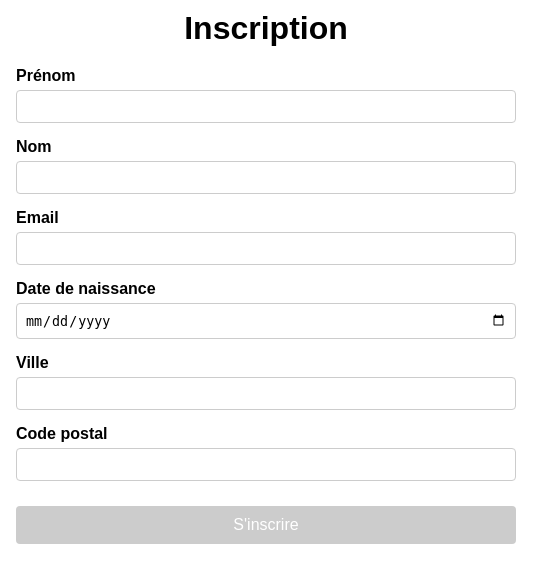
Test: Scénarios de navigation E2E › Scénario Erreur 400 : email déjà utilisé, affiche le message du back
In the field with test id "firstName": (266, 107) [16, 90, 516, 123], type "Kany"
In the field with test id "lastName": (266, 178) [16, 161, 516, 194], type "Chheng"
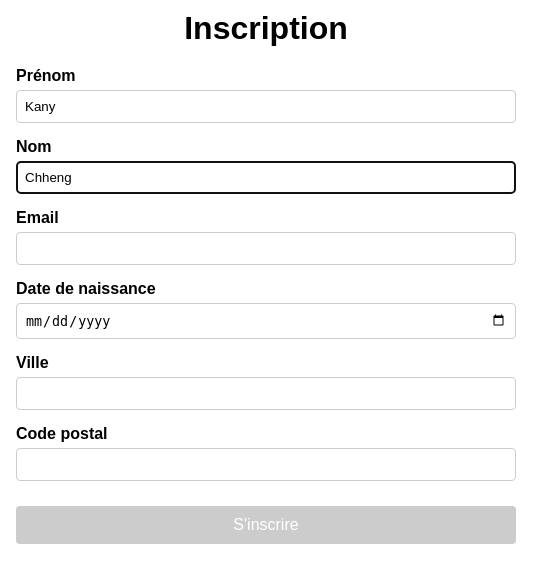
In the field with test id "email": (266, 249) [16, 232, 516, 265], type "kany@test.com"
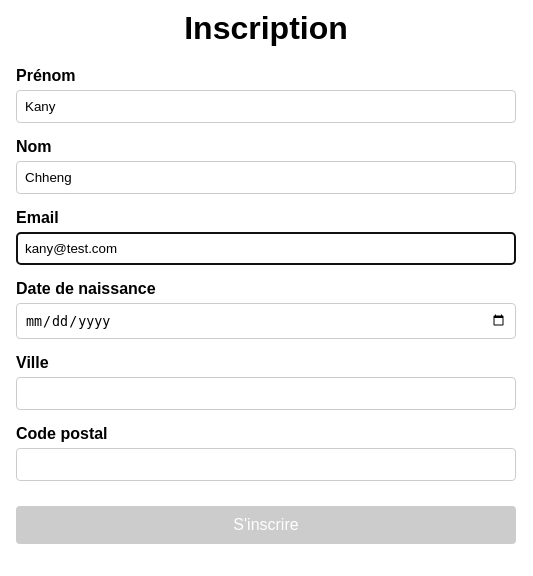
In the date field with test id "birthDate": (266, 321) [16, 303, 516, 338], type "1998-03-22"
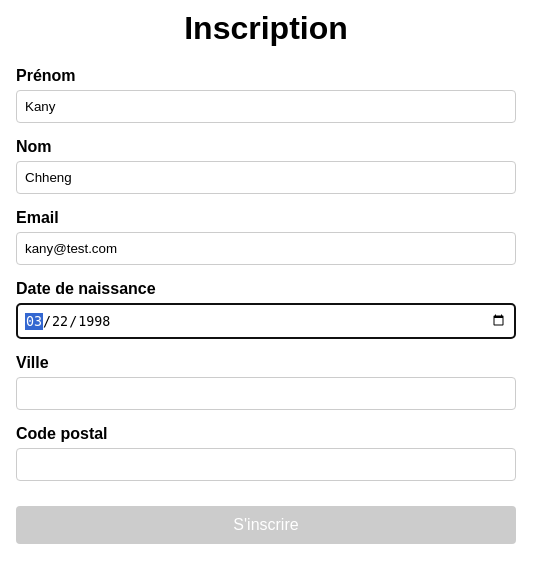
In the field with test id "city": (266, 394) [16, 377, 516, 410], type "Paris"
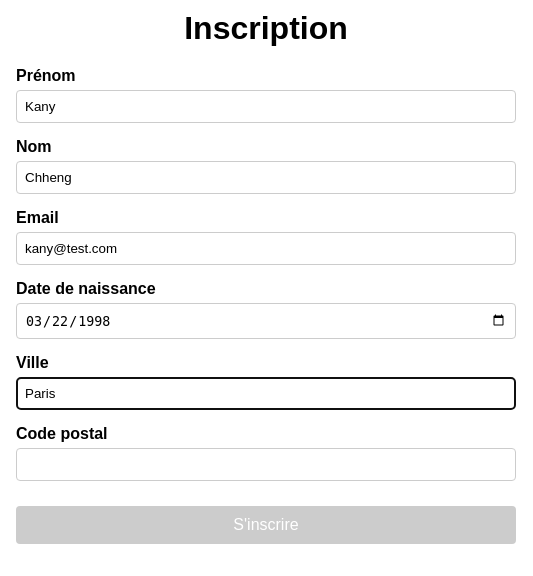
In the field with test id "postalCode": (266, 465) [16, 448, 516, 481], type "75015"
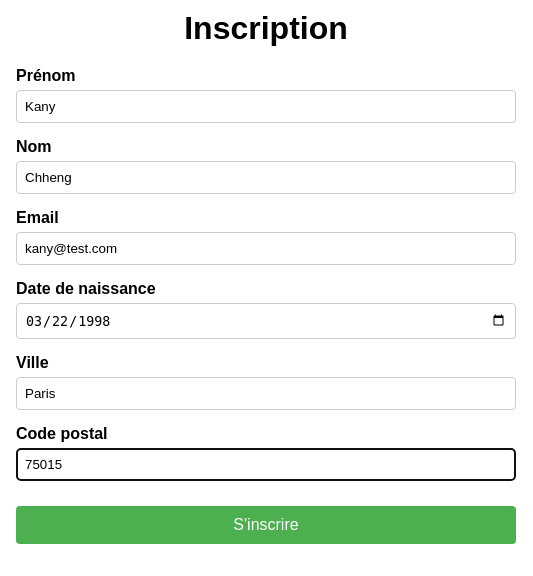
Click the button with test id "submit": click(266, 525) [16, 506, 516, 544]
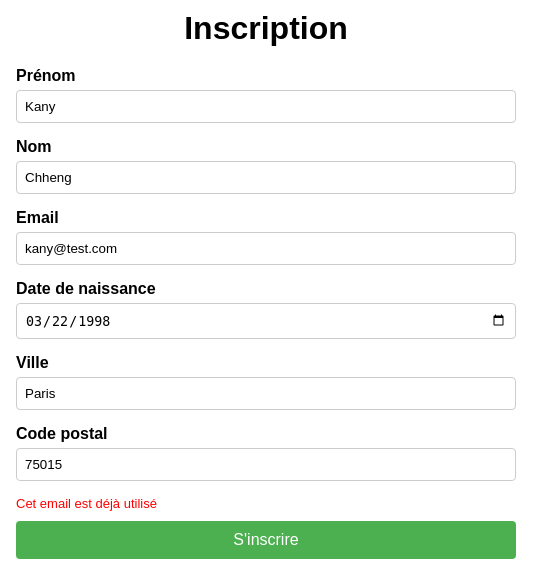
Expected: the text with test id "error-api" reads "Cet email est déjà utilisé", [16, 496, 157, 511]
